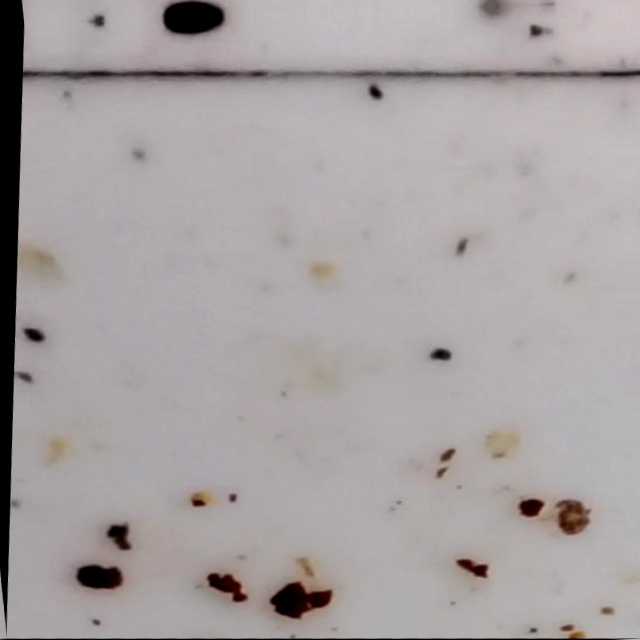varroa: (150, 17, 214, 39)
